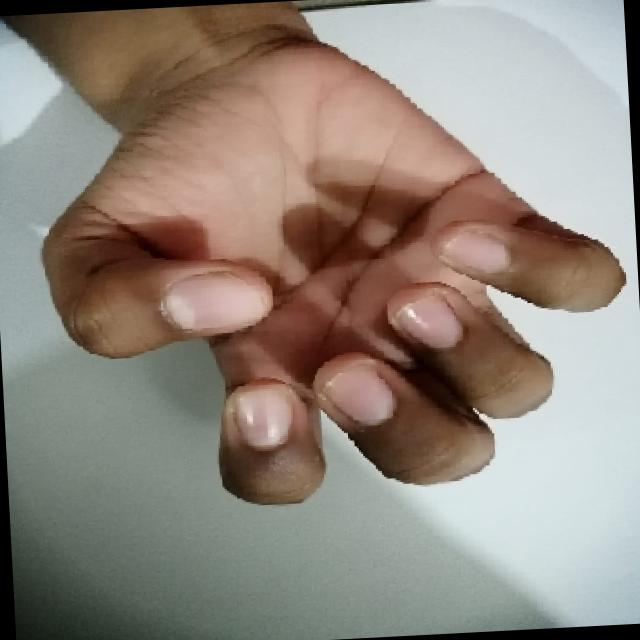Nail: (161, 271, 263, 332), (322, 365, 394, 425), (234, 382, 294, 451), (396, 295, 463, 349), (442, 231, 509, 274)
